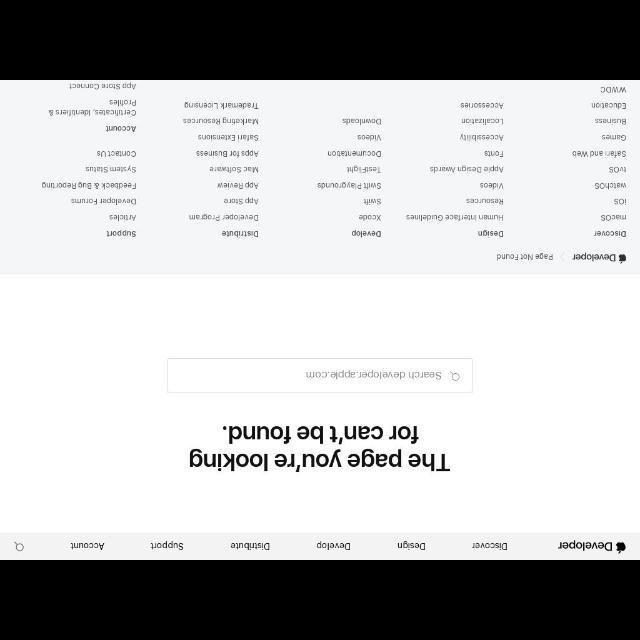icon: (448, 371, 459, 381), (14, 541, 24, 551)
image: (558, 540, 626, 554), (572, 252, 626, 264)
input: (168, 359, 472, 393)
panel: (2, 81, 640, 273)
text: (190, 426, 450, 472), (48, 100, 136, 116), (306, 370, 442, 380), (406, 214, 504, 222), (42, 181, 136, 189), (184, 117, 258, 125), (184, 101, 258, 109), (68, 82, 136, 90), (72, 197, 136, 205), (431, 165, 504, 172), (318, 182, 380, 190), (196, 150, 258, 158), (198, 134, 258, 142), (190, 213, 258, 220), (572, 150, 626, 158), (327, 150, 381, 158), (496, 253, 552, 260), (210, 166, 258, 174), (459, 134, 503, 142), (86, 165, 136, 172), (461, 102, 504, 110), (230, 542, 270, 550), (218, 182, 258, 190), (98, 150, 136, 158), (346, 165, 382, 173), (222, 230, 258, 238), (397, 540, 425, 550), (342, 118, 381, 125), (472, 542, 506, 550), (70, 542, 104, 550), (592, 102, 626, 110), (466, 198, 504, 205), (316, 542, 349, 550), (150, 542, 183, 550), (594, 230, 626, 238), (461, 118, 503, 124), (106, 229, 136, 237), (224, 198, 258, 205), (352, 229, 381, 237), (594, 118, 626, 125), (600, 86, 626, 94), (109, 214, 135, 222), (595, 183, 627, 189), (478, 230, 502, 238), (480, 182, 504, 190), (357, 134, 381, 142), (105, 126, 136, 132), (359, 214, 381, 222), (484, 150, 504, 158), (601, 215, 625, 221), (602, 135, 626, 141), (363, 198, 381, 206), (610, 166, 626, 174), (614, 198, 626, 206), (560, 252, 566, 262)
toolbar: (1, 533, 639, 559)
